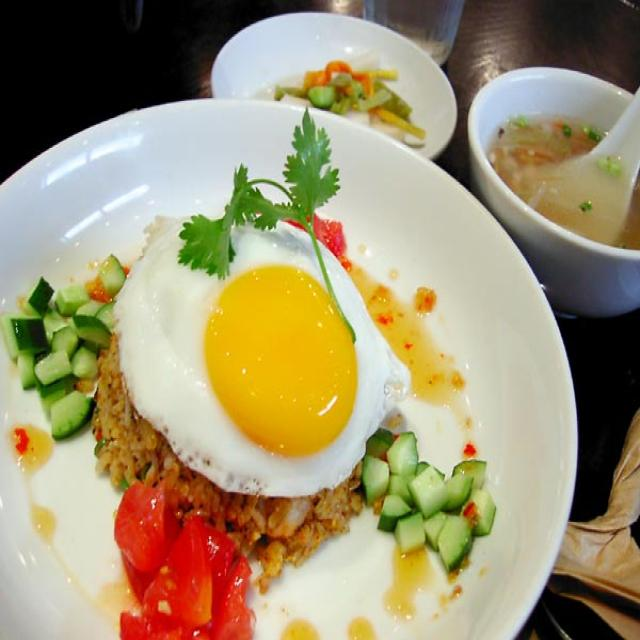鸡蛋料理: (97, 193, 403, 508)
